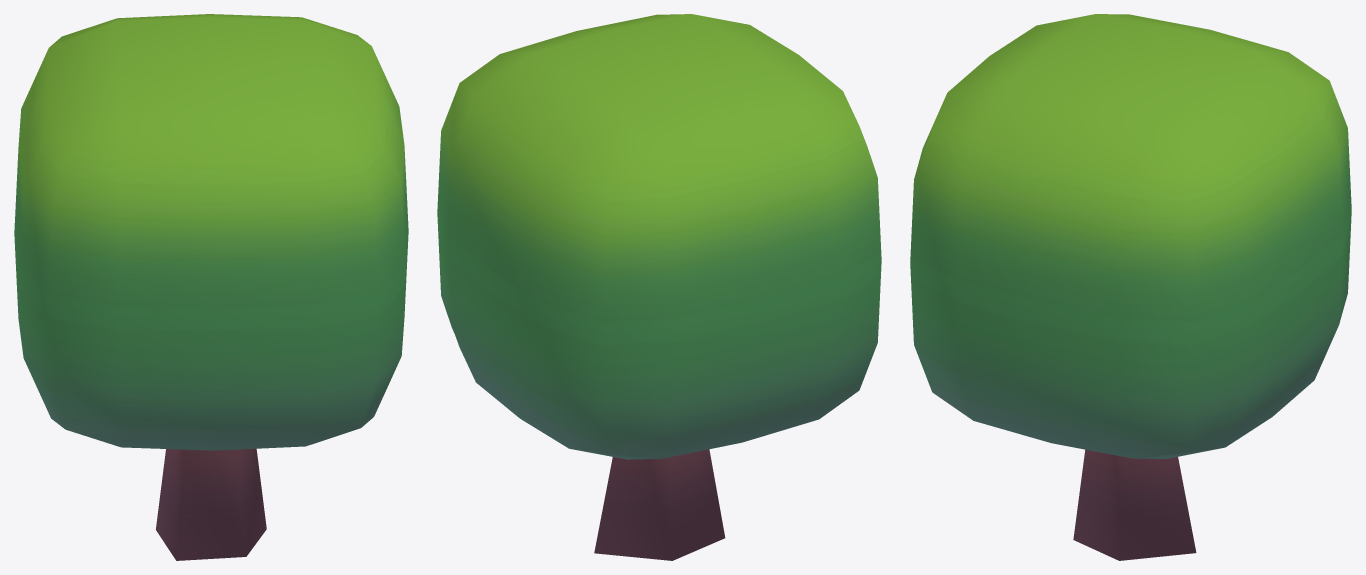
Rendered from village_town_tree_square.glb.
The picture shows the model from 3 angles, left to right: view 1: azimuth 30°, elevation 25°; view 2: azimuth 150°, elevation 25°; view 3: azimuth 270°, elevation 25°; orthographic projection.
Parts seen in each view (by area): view 1: Tree_Square.001_Material.005_0; view 2: Tree_Square.001_Material.005_0; view 3: Tree_Square.001_Material.005_0.
Part boxes in pixels (x1,y1,x2,y2): Tree_Square.001_Material.005_0: [14, 14, 408, 560]; Tree_Square.001_Material.005_0: [437, 14, 881, 560]; Tree_Square.001_Material.005_0: [910, 14, 1351, 560].
Size of the model in its own units: 1.79 by 2.14 by 1.79.
Materials: 1 (1 with a texture image).
